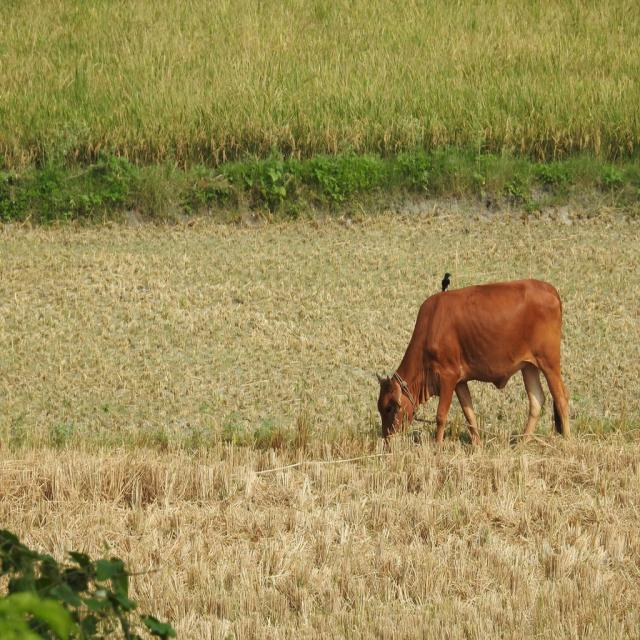cow: (378, 279, 570, 444)
